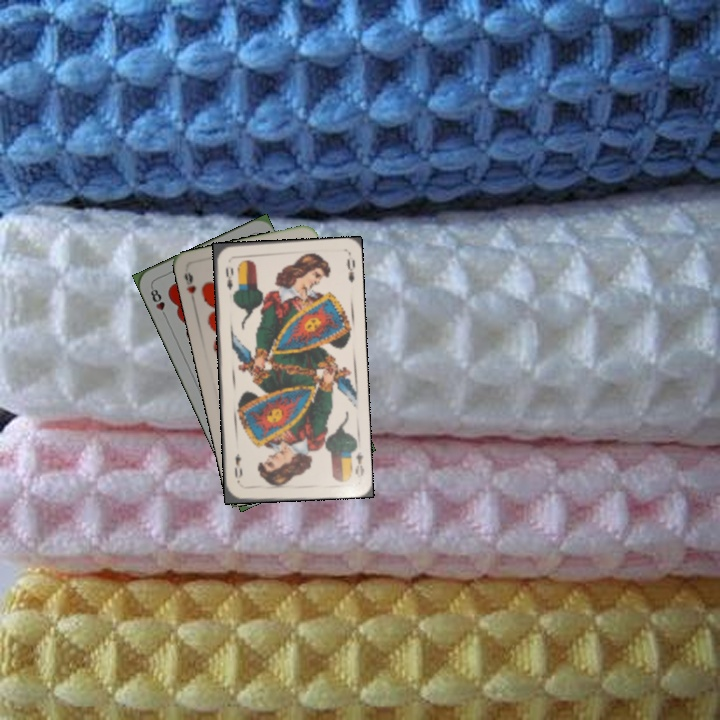EO: (351, 448, 367, 480), (222, 262, 236, 292)
H8: (146, 283, 170, 321)
H9: (180, 268, 198, 296)
